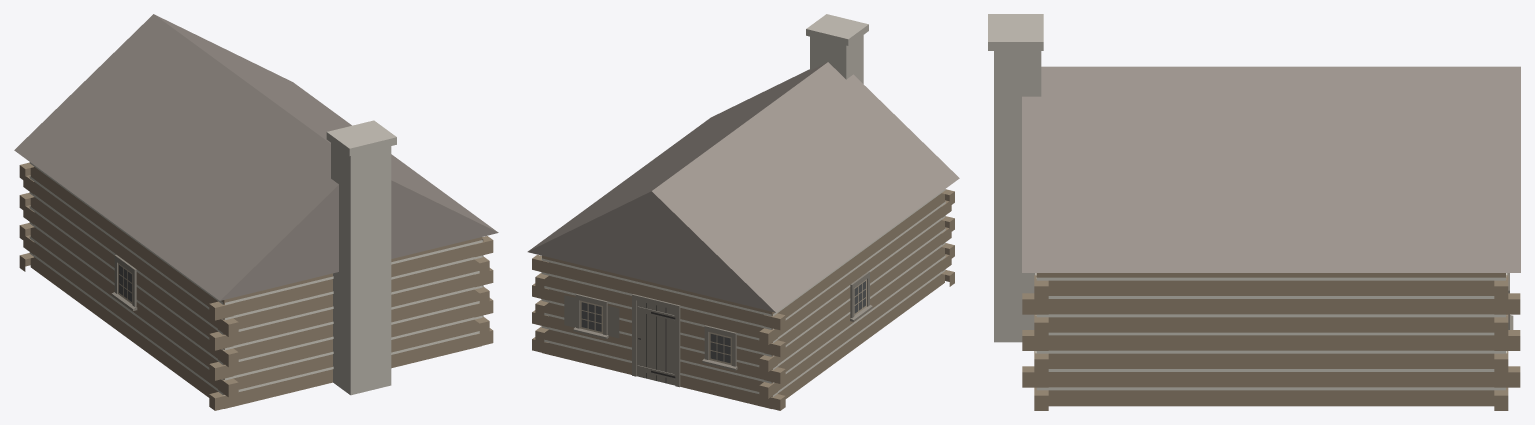
Rendered from harmon_log_cabin__documented_1835.glb.
The picture shows the model from 3 angles, left to right: view 1: azimuth 30°, elevation 25°; view 2: azimuth 150°, elevation 25°; view 3: azimuth 270°, elevation 25°; orthographic projection. The views are drawn at different scales.
Parts seen in each view (by area): view 1: harmon_log_cabin__documented_1835; view 2: harmon_log_cabin__documented_1835; view 3: harmon_log_cabin__documented_1835.
Part boxes in pixels (x1,y1,x2,y2): harmon_log_cabin__documented_1835: [14, 14, 498, 410]; harmon_log_cabin__documented_1835: [527, 14, 959, 410]; harmon_log_cabin__documented_1835: [988, 14, 1520, 410].
Bounding box in the file's own units: 6.6 × 5.63 × 9.
